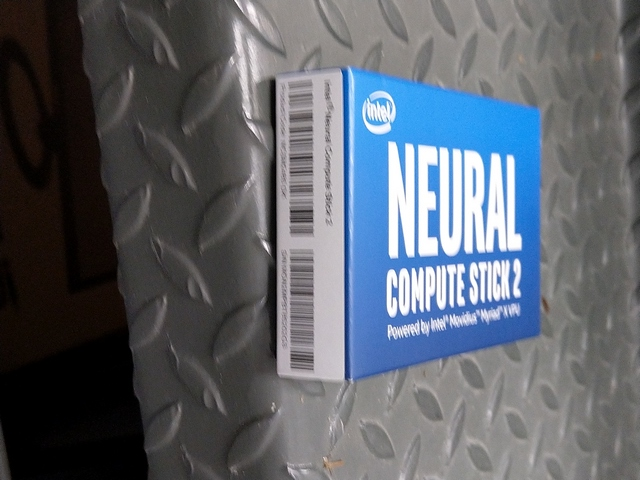box: (275, 65, 543, 386)
